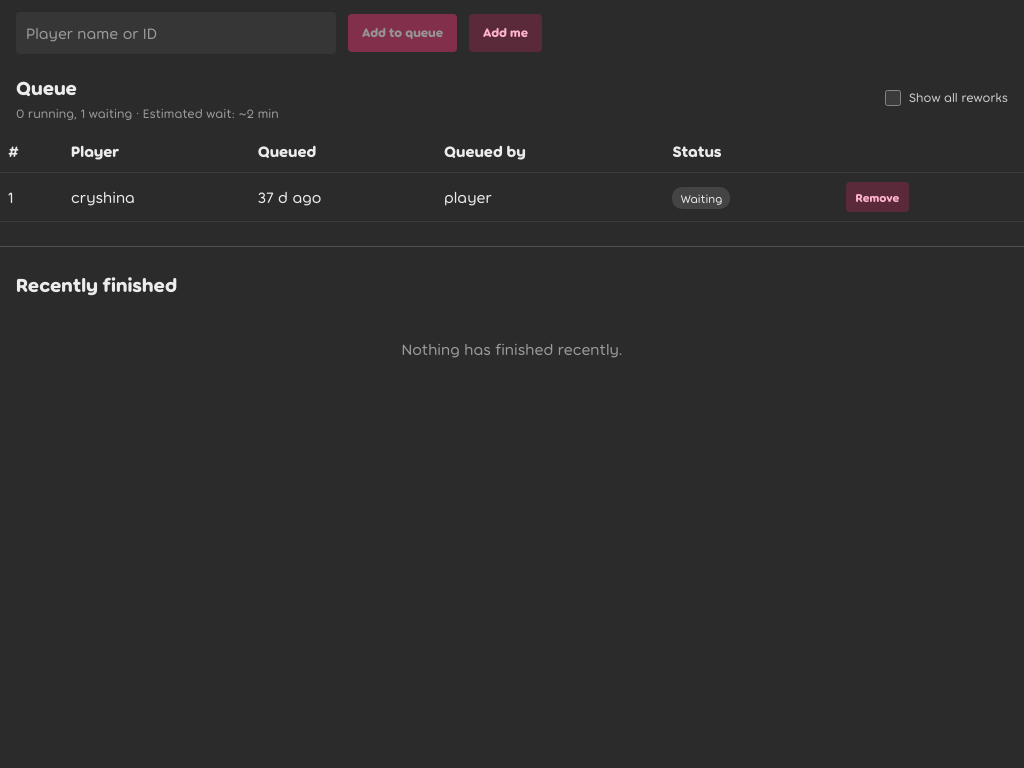
Test: QueueTab › removing entries › shows why an entry could not be removed
Click the button with aria-label "Remove cryshina" at x=877, y=196, box left=846, top=182, right=909, bottom=212
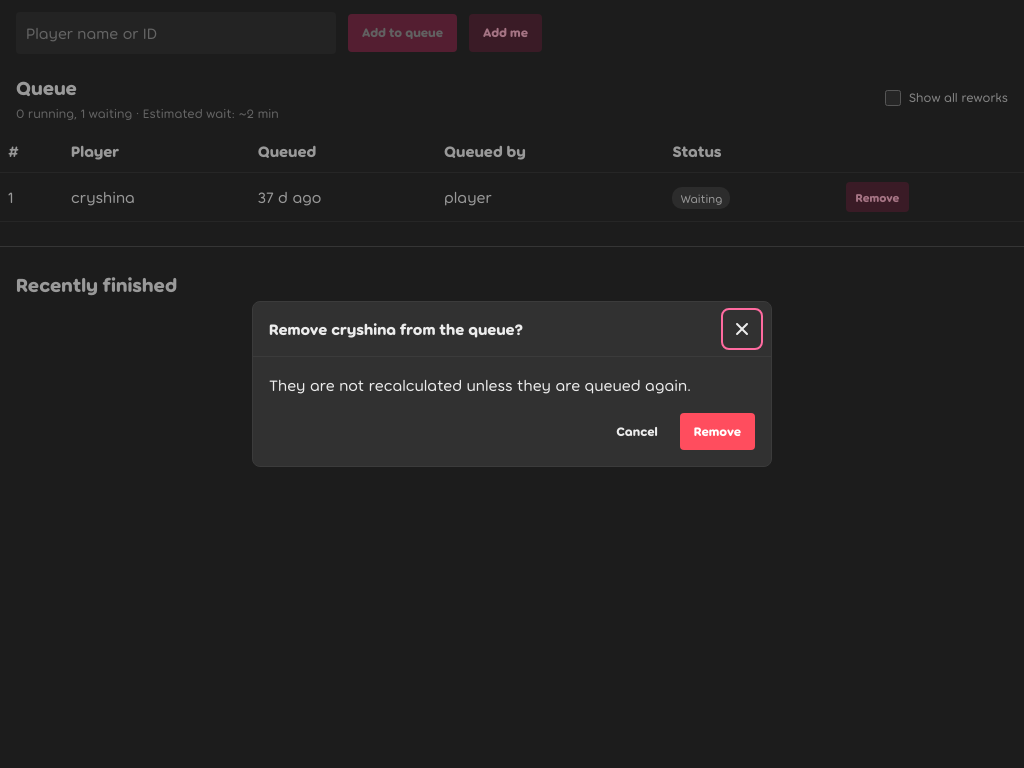
Click the button "Remove" at x=717, y=432, box left=680, top=413, right=755, bottom=450
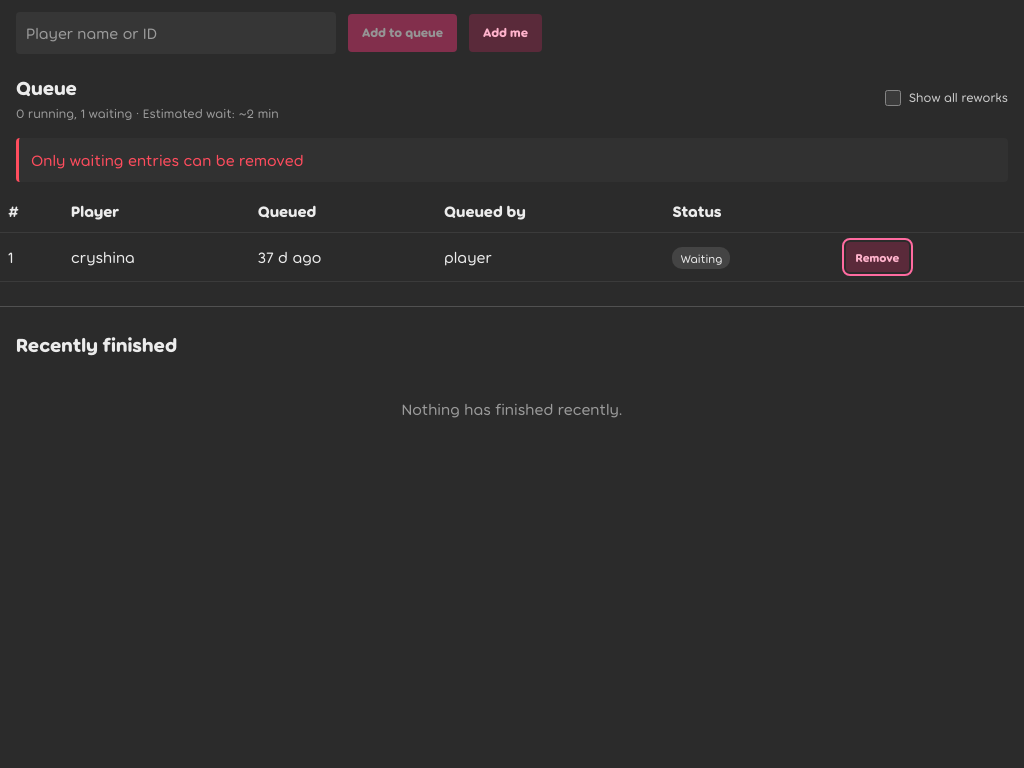
Check: the text "Only waiting entries can be removed" is shown, box left=31, top=148, right=304, bottom=172
